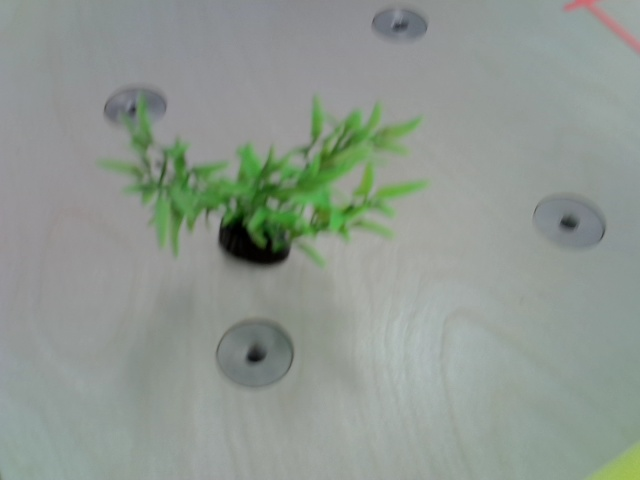튤립새싹: (114, 89, 429, 265)
